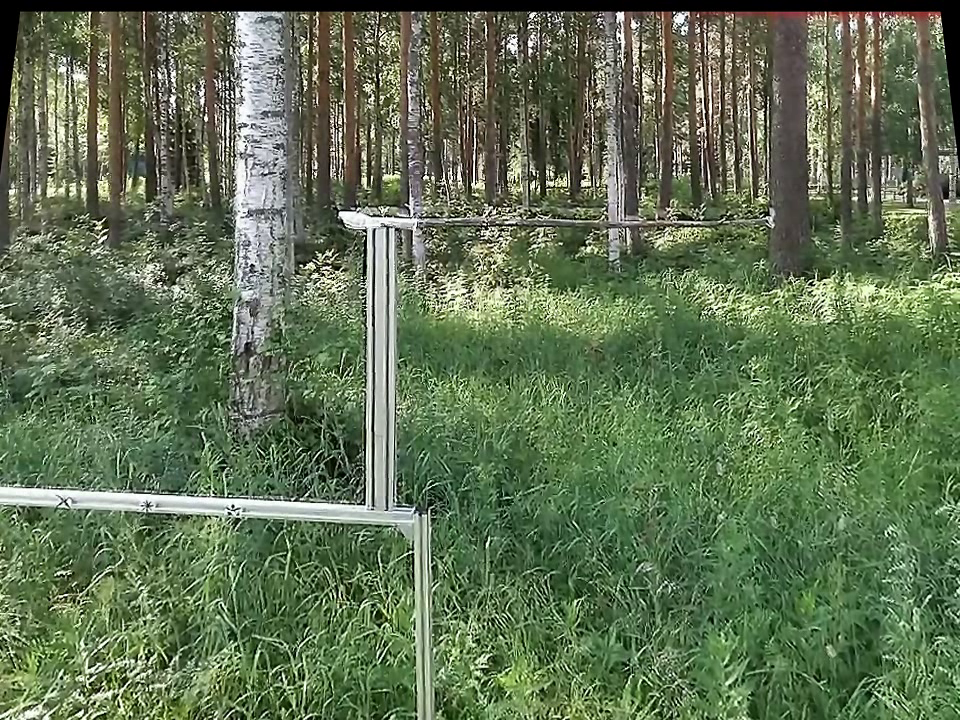aluminum_frame: (2, 483, 413, 524), (357, 232, 399, 509), (406, 503, 442, 717)
branch: (422, 203, 762, 247)
